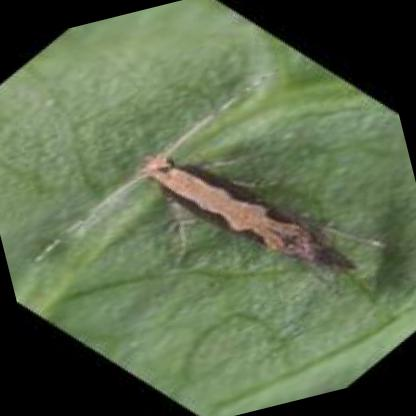plutella: (142, 152, 359, 279)
